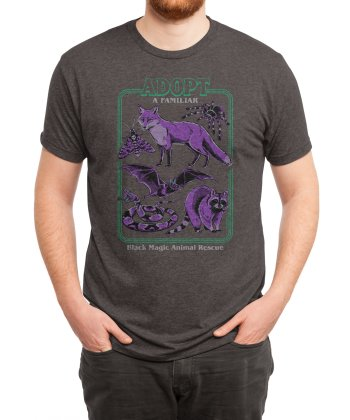design: (110, 74, 237, 256)
